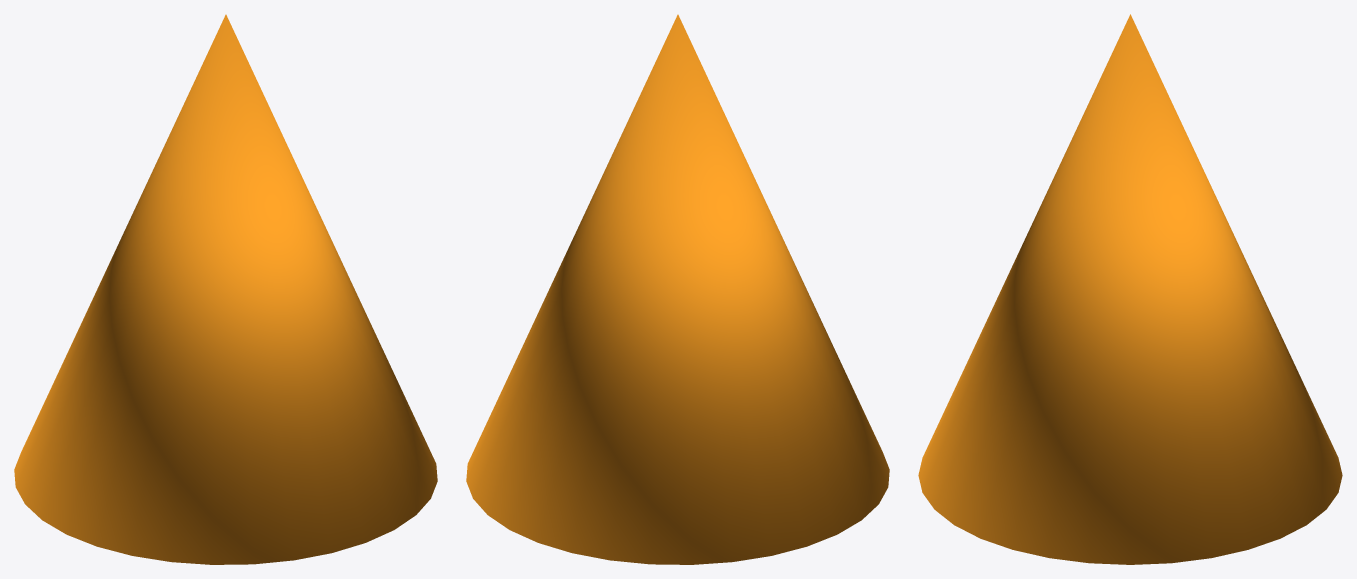
3 views of the same model, side by side, from view 1: azimuth 30°, elevation 25°; view 2: azimuth 150°, elevation 25°; view 3: azimuth 270°, elevation 25° (orthographic).
Parts seen in each view (by area): view 1: solid_cone; view 2: solid_cone; view 3: solid_cone.
Part boxes in pixels (left/top/right/bottom): solid_cone: left=14, top=14, right=437, bottom=564; solid_cone: left=466, top=14, right=889, bottom=564; solid_cone: left=918, top=14, right=1342, bottom=564.
Bounding box in the file's own units: 0.2 × 0.24 × 0.2.
